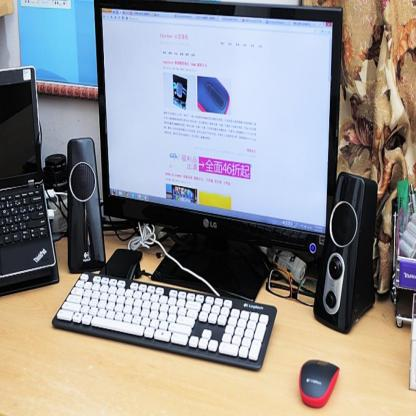board: (0, 65, 56, 279)
